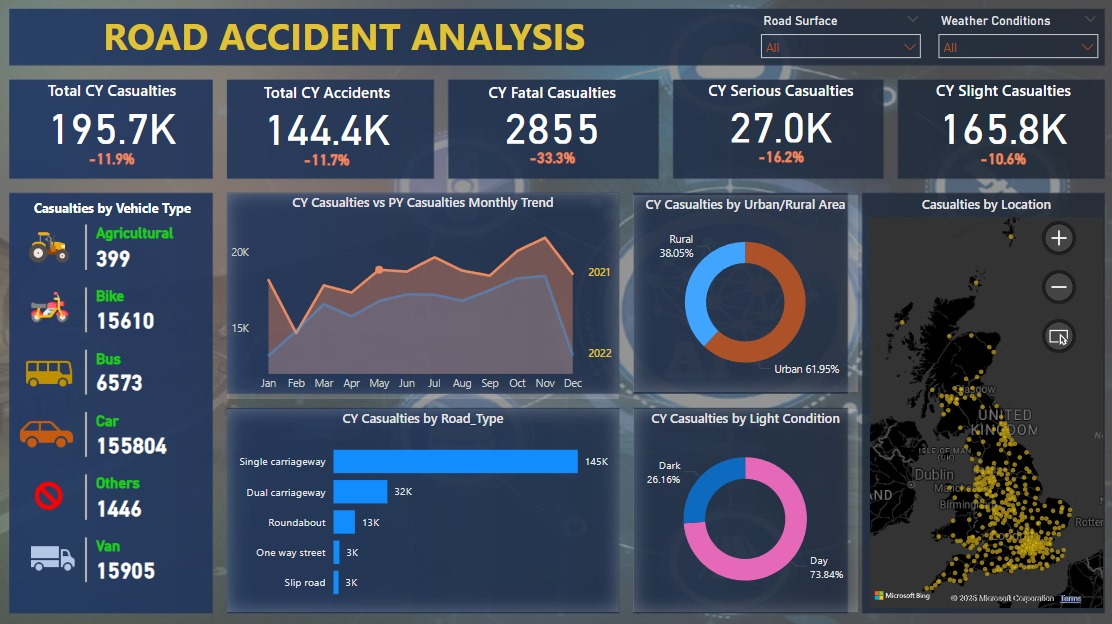

Layout of this report page (visuals, bound fields, positions):
{"tool":"powerbi","page":{"name":"Executive Summary","canvas":[1280,720],"ordinal":0},"visuals":[{"type":"group","id":"g1","title":"Group 1","box":[16.7,92.5,228.8,111.8],"z":0},{"type":"card","title":"Total CY Casualties","fields":{"Values":["Data.CY Casualties"]},"box":[16.7,92.5,228.4,77.5],"z":0,"group":"g1"},{"type":"card","title":"CY Serious Casualties","fields":{"Values":["Data.CY Casualties"]},"box":[776.2,92.5,240.3,76.2],"z":0,"group":"g5"},{"type":"card","title":"CY Slight Casualties","fields":{"Values":["Data.CY Casualties"]},"box":[1032,92.5,237.4,77.5],"z":0,"group":"g4"},{"type":"card","title":"Total CY Accidents","fields":{"Values":["Data.CY Accidents"]},"box":[263.5,93.8,228.4,77.5],"z":0,"group":"g2"},{"type":"card","title":"CY Fatal Casualties","fields":{"Values":["Data.CY Casualties"]},"box":[514.1,93.8,240.3,76.2],"z":0,"group":"g3"},{"type":"group","id":"g2","title":"Group 1","box":[263.5,93.8,227.5,111.8],"z":1000},{"type":"card","fields":{"Values":["Data.YoY Casualties"]},"box":[853.2,160.1,86.4,42.9],"z":1000,"group":"g5"},{"type":"card","fields":{"Values":["Data.YoY Casualties"]},"box":[89.8,161.3,82.1,43.7],"z":1000,"group":"g1"},{"type":"card","fields":{"Values":["Data.YoY Casualties"]},"box":[1108,161.3,85.4,43.7],"z":1000,"group":"g4"},{"type":"card","fields":{"Values":["Data.YoY Casualties"]},"box":[591.1,161.4,86.4,42.9],"z":1000,"group":"g3"},{"type":"card","fields":{"Values":["Data.YoY Accidents"]},"box":[336.6,162.6,82.1,43.7],"z":1000,"group":"g2"},{"type":"group","id":"g3","title":"Group 1","box":[514.1,93.8,240.3,110.5],"z":2000},{"type":"group","id":"g4","title":"Group 1","box":[1032,92.5,236.5,111.8],"z":3000},{"type":"group","id":"g5","title":"Group 1","box":[776.2,92.5,240.3,110.5],"z":4000},{"type":"textbox","box":[16.9,6.8,759.4,70.9],"z":5000},{"type":"multiRowCard","fields":{"Values":["Data.Vehicle_Type (groups)","Data.CY Casualties"]},"box":[95.6,253.1,149.6,447.8],"z":6000},{"type":"image","box":[22.5,393.8,73.1,67.5],"z":7000},{"type":"image","box":[29.2,254.2,61.9,58.5],"z":8000},{"type":"image","box":[19.1,457.9,76.5,77.6],"z":9000},{"type":"image","box":[29.2,542.2,60.8,49.5],"z":10000},{"type":"image","box":[22.5,326.2,75.4,52.9],"z":11000},{"type":"image","box":[28.1,607.5,70.9,64.1],"z":12000},{"type":"textbox","box":[19.1,223.9,226.1,40.5],"z":13000},{"type":"areaChart","title":"CY Casualties vs PY Casualties  Monthly Trend","fields":{"Category":["Calendar.Month"],"Y":["Sum(Data.Number_of_Casualties)"],"Series":["Calendar.Date.Variation.Date Hierarchy.Year"]},"box":[263.2,221.6,447.8,236.2],"z":14000},{"type":"donutChart","title":"CY Casualties by Urban/Rural Area","fields":{"Y":["Data.CY Casualties"],"Category":["Data.Urban_or_Rural_Area"]},"box":[726.8,223.9,256.5,225],"z":15000},{"type":"donutChart","title":"CY Casualties by Light Condition","fields":{"Y":["Data.CY Casualties"],"Category":["Data.Light_Conditions (groups)"]},"box":[726.8,469.1,256.5,231.8],"z":16000},{"type":"barChart","fields":{"Y":["Data.CY Casualties"],"Category":["Data.Road_Type"]},"box":[263.2,469.1,447.8,231.8],"z":17000},{"type":"map","title":"Casualties by Location","fields":{"Y":["Data.Latitude"],"X":["Data.Longitude"],"Category":["Data.Local_Authority_(District)"]},"box":[992.2,223.9,275.6,477],"z":18000},{"type":"slicer","fields":{"Values":["Data.Weather_Conditions (groups)"]},"box":[1065.4,11.2,202.5,57.4],"z":19000},{"type":"slicer","fields":{"Values":["Data.Road_Surface_Conditions (groups)"]},"box":[862.9,11.2,202.5,66.4],"z":20000}]}

Visuals, with their boxes in screenshot pixels (x1, y1, x2, y2), scaled from the page's 1280x720 canvas onto the 1112x624 screenshot:
"Group 1" group: x1=15, y1=80, x2=213, y2=177
"Total CY Casualties" card: x1=15, y1=80, x2=213, y2=147
"CY Serious Casualties" card: x1=674, y1=80, x2=883, y2=146
"CY Slight Casualties" card: x1=897, y1=80, x2=1103, y2=147
"Total CY Accidents" card: x1=229, y1=81, x2=427, y2=148
"CY Fatal Casualties" card: x1=447, y1=81, x2=655, y2=147
"Group 1" group: x1=229, y1=81, x2=427, y2=178
card - Data.YoY Casualties: x1=741, y1=139, x2=816, y2=176
card - Data.YoY Casualties: x1=78, y1=140, x2=149, y2=178
card - Data.YoY Casualties: x1=963, y1=140, x2=1037, y2=178
card - Data.YoY Casualties: x1=514, y1=140, x2=589, y2=177
card - Data.YoY Accidents: x1=292, y1=141, x2=364, y2=179
"Group 1" group: x1=447, y1=81, x2=655, y2=177
"Group 1" group: x1=897, y1=80, x2=1102, y2=177
"Group 1" group: x1=674, y1=80, x2=883, y2=176
textbox: x1=15, y1=6, x2=674, y2=67
multiRowCard - Data.Vehicle_Type (groups) x Data.CY Casualties: x1=83, y1=219, x2=213, y2=607
image: x1=20, y1=341, x2=83, y2=400
image: x1=25, y1=220, x2=79, y2=271
image: x1=17, y1=397, x2=83, y2=464
image: x1=25, y1=470, x2=78, y2=513
image: x1=20, y1=283, x2=85, y2=329
image: x1=24, y1=526, x2=86, y2=582
textbox: x1=17, y1=194, x2=213, y2=229
"CY Casualties vs PY Casualties  Monthly Trend" areaChart: x1=229, y1=192, x2=618, y2=397
"CY Casualties by Urban/Rural Area" donutChart: x1=631, y1=194, x2=854, y2=389
"CY Casualties by Light Condition" donutChart: x1=631, y1=407, x2=854, y2=607
barChart - Data.CY Casualties x Data.Road_Type: x1=229, y1=407, x2=618, y2=607
"Casualties by Location" map: x1=862, y1=194, x2=1101, y2=607
slicer - Data.Weather_Conditions (groups): x1=926, y1=10, x2=1101, y2=59
slicer - Data.Road_Surface_Conditions (groups): x1=750, y1=10, x2=926, y2=67
